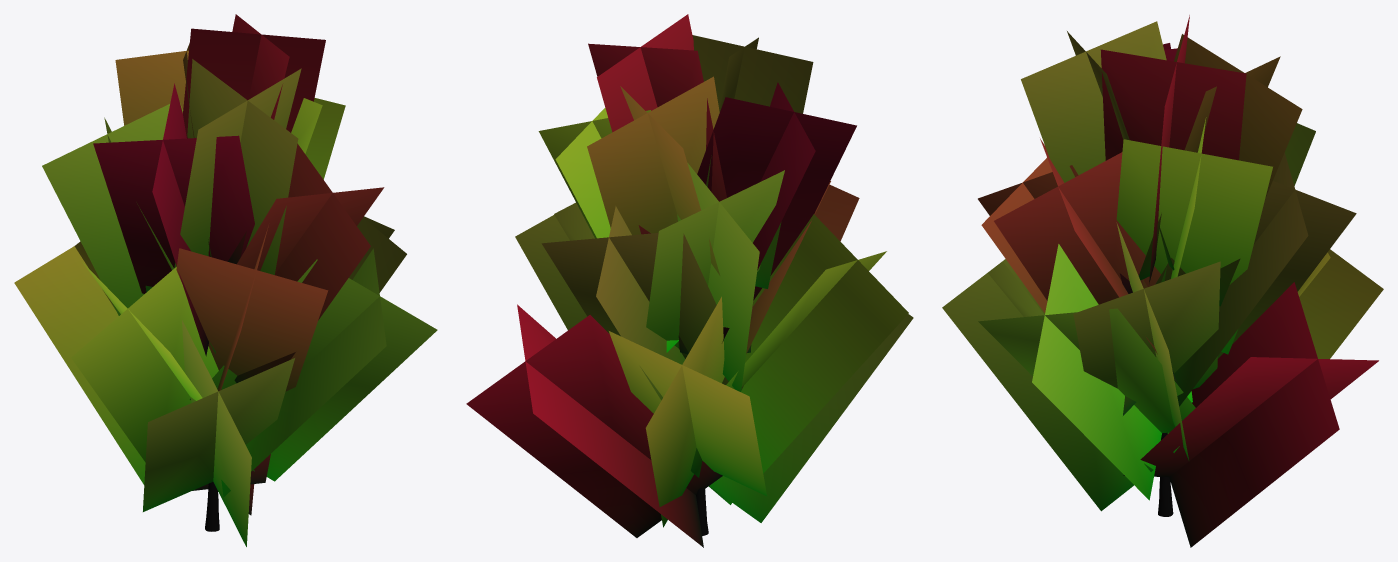
Rendered from Bush_9_3.fbx.
3 views of the same model, side by side, from view 1: azimuth 30°, elevation 25°; view 2: azimuth 150°, elevation 25°; view 3: azimuth 270°, elevation 25° (orthographic).
Visible parts, largest first — view 1: _13; view 2: _13; view 3: _13.
Part boxes in pixels (x1=…): _13: x1=14, y1=14, x2=437, y2=546; _13: x1=466, y1=14, x2=913, y2=547; _13: x1=942, y1=15, x2=1383, y2=547.
Bounding box in the file's own units: 506 × 676 × 537.
